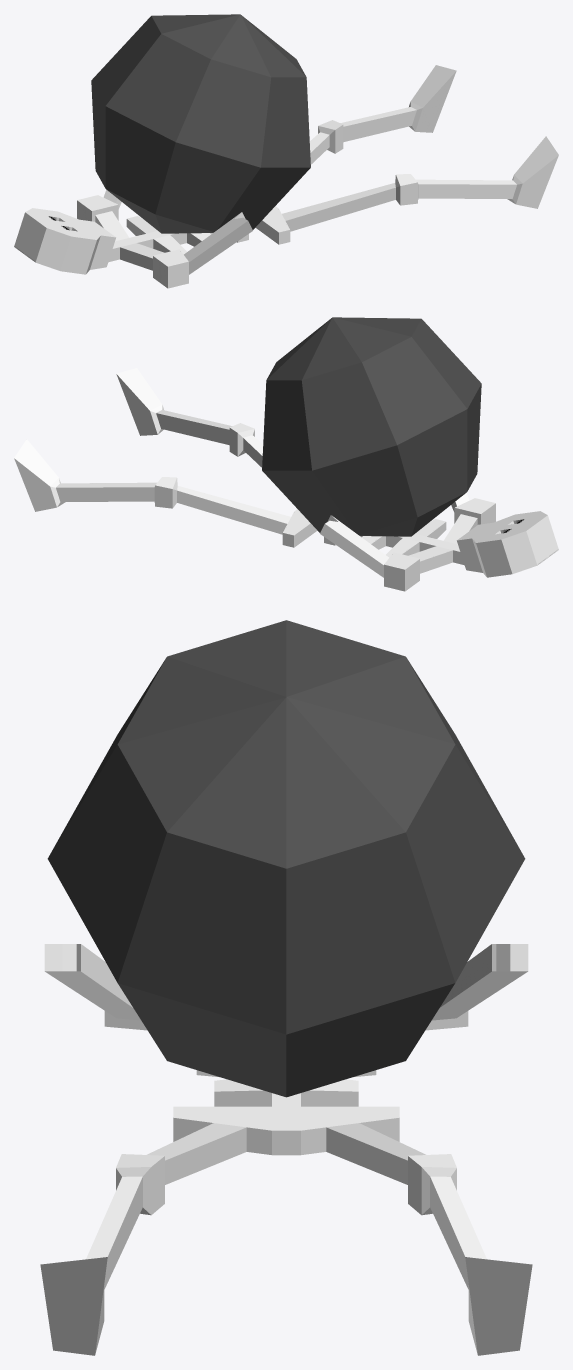
File: Skeletons leg chained to a metal ball 2.fbx
3 views of the same model, one above another, from view 1: azimuth 30°, elevation 25°; view 2: azimuth 150°, elevation 25°; view 3: azimuth 270°, elevation 25° (orthographic). The views are drawn at different scales.
Visible parts, largest first — view 1: Sphere002; view 2: Sphere002; view 3: Sphere002.
Boxes of the visible parts, x1,y1,x2,y2 form: Sphere002: [14, 14, 558, 288]; Sphere002: [14, 317, 558, 591]; Sphere002: [40, 620, 532, 1355].
Bounding box in the file's own units: 254 × 108 × 114.
Materials: 1 (1 with a texture image).
